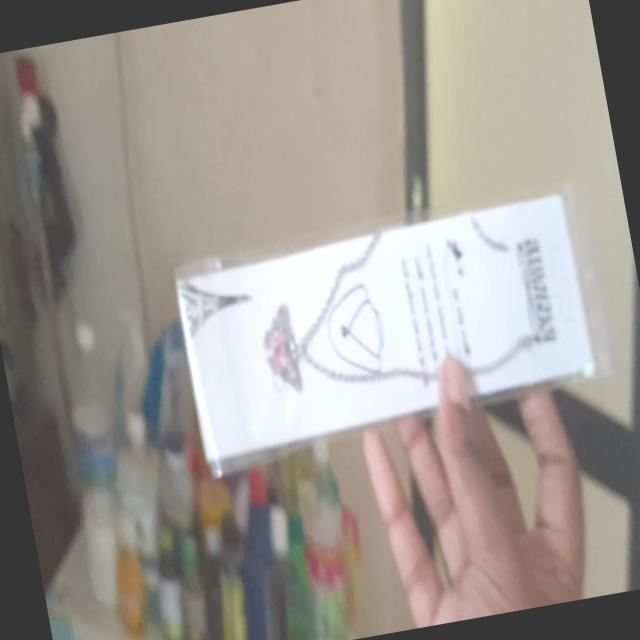Plastic - Recyclable: (165, 183, 608, 480)
